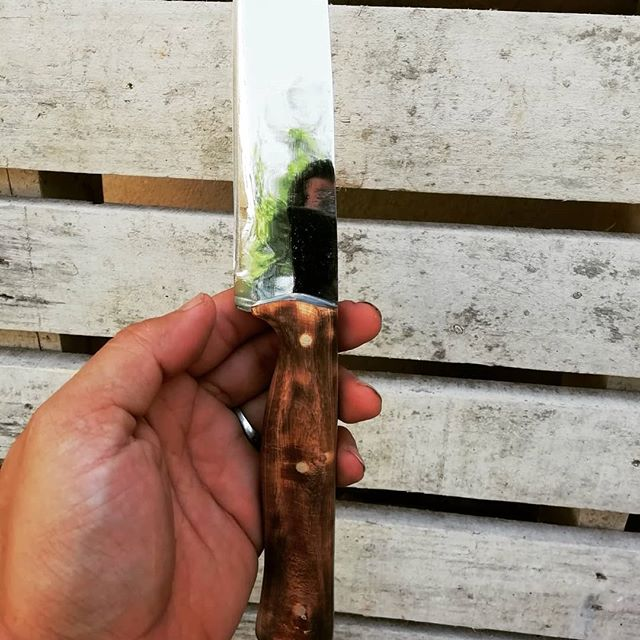knife: (234, 1, 340, 638)
